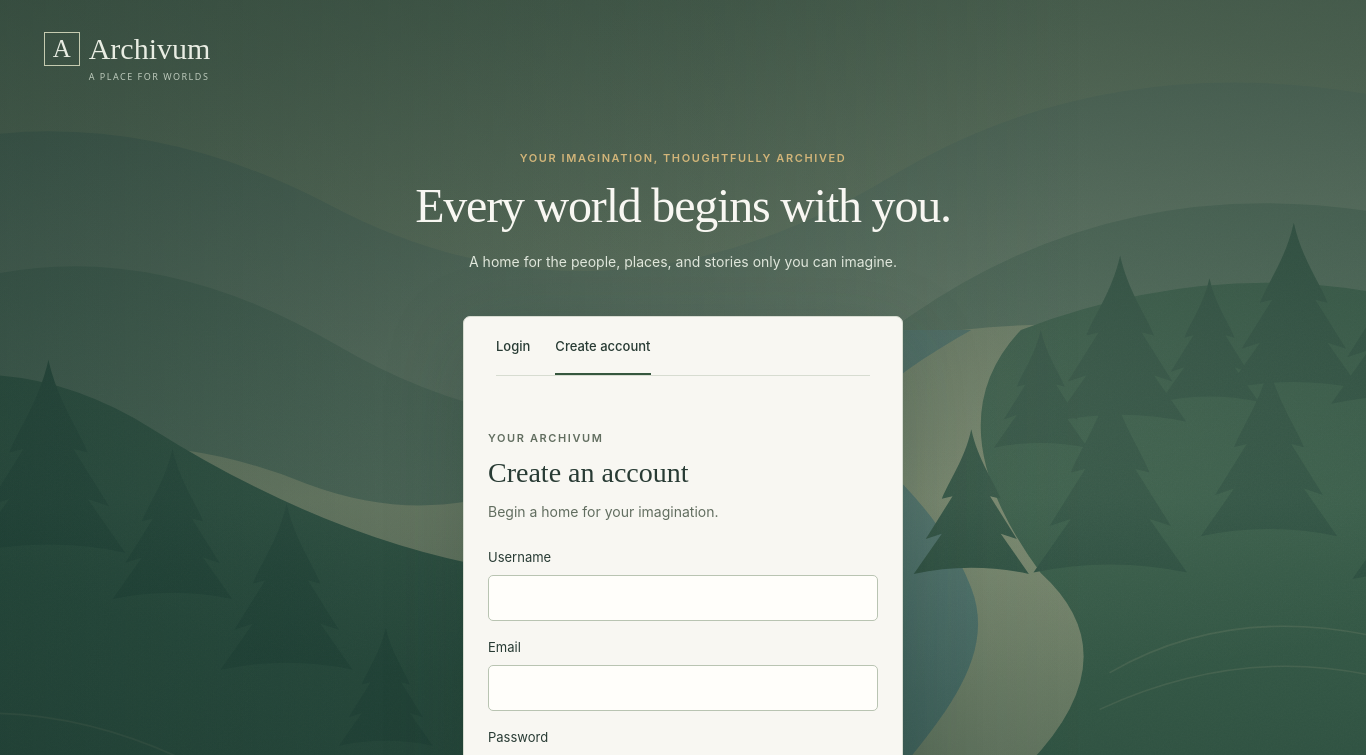
keeps a newly registered visitor in the shared guest flow until login
In the field named "userName": {"x": 683, "y": 598} [488,575,878,621], type "Archivist"
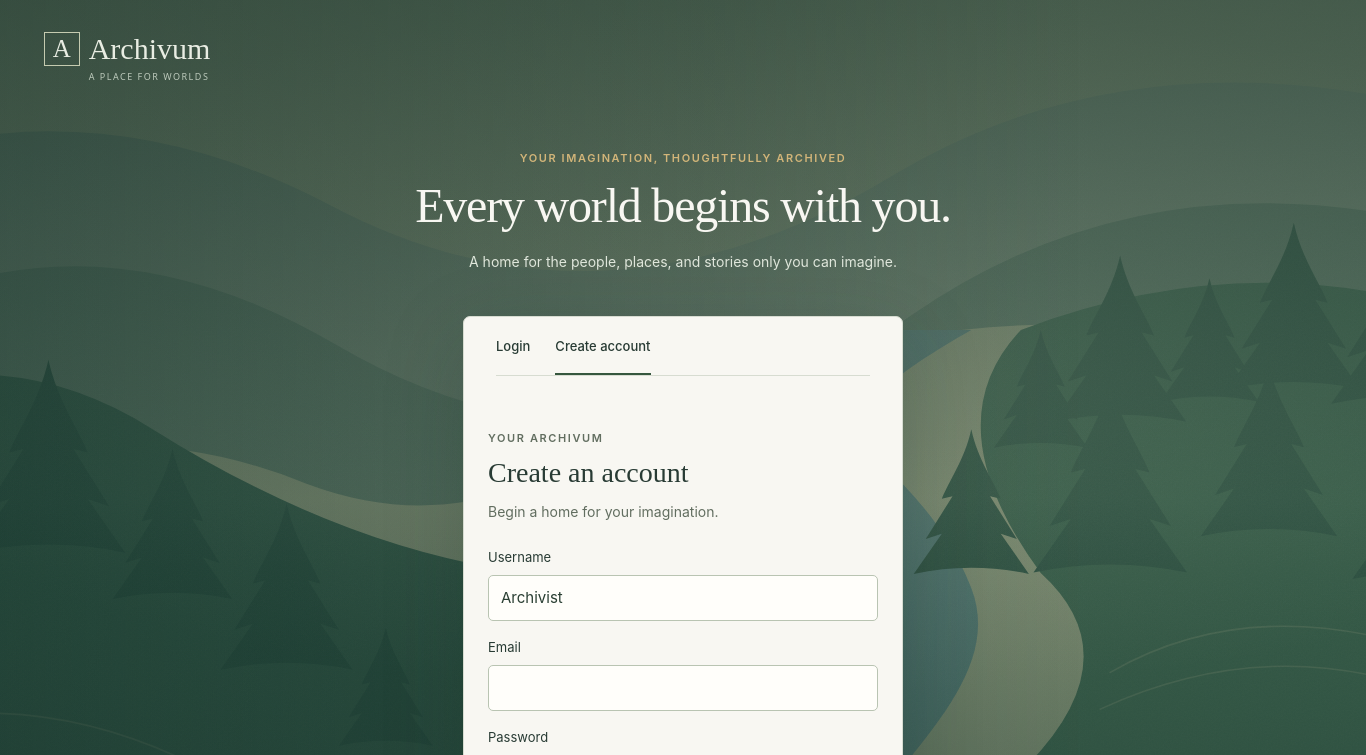
In the field named "email": {"x": 683, "y": 688} [488,665,878,711], type "a@example.com"
(page scrolled)
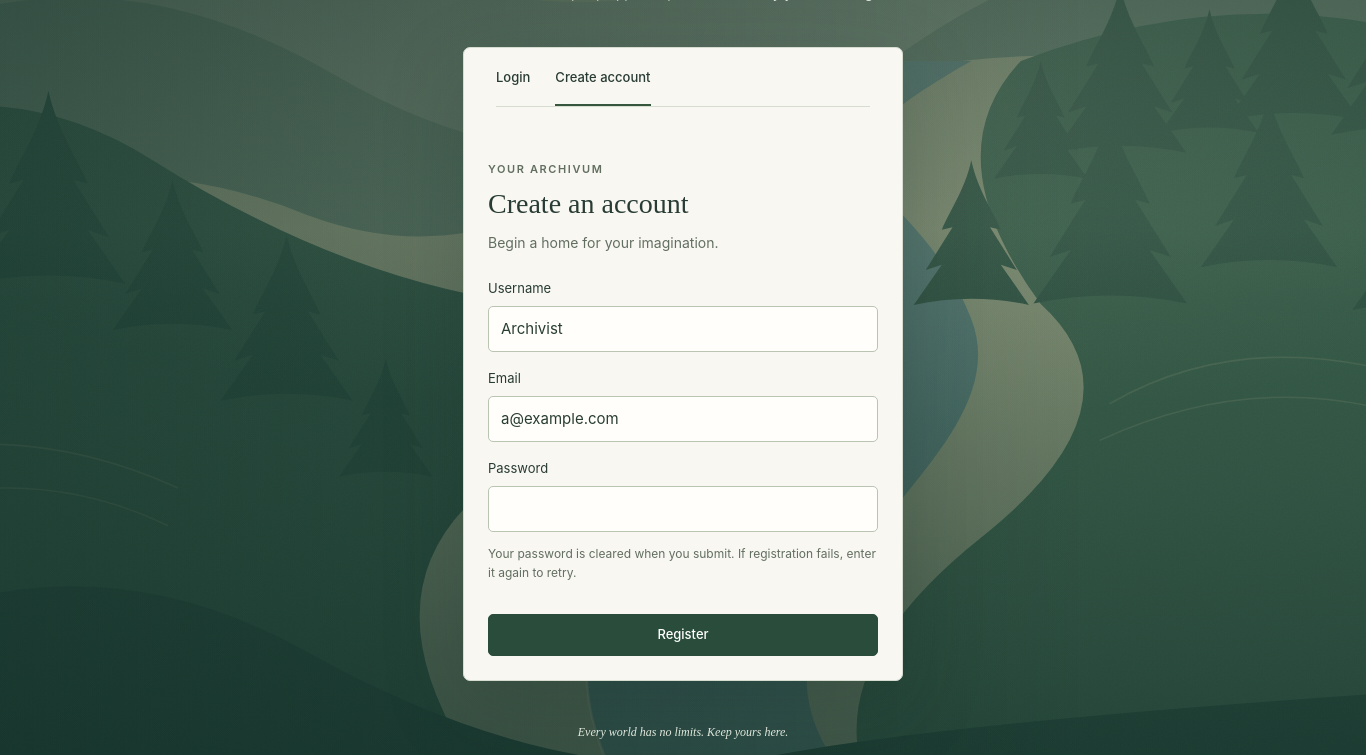
In the password field named "password": {"x": 683, "y": 509} [488,486,878,532], type "password"
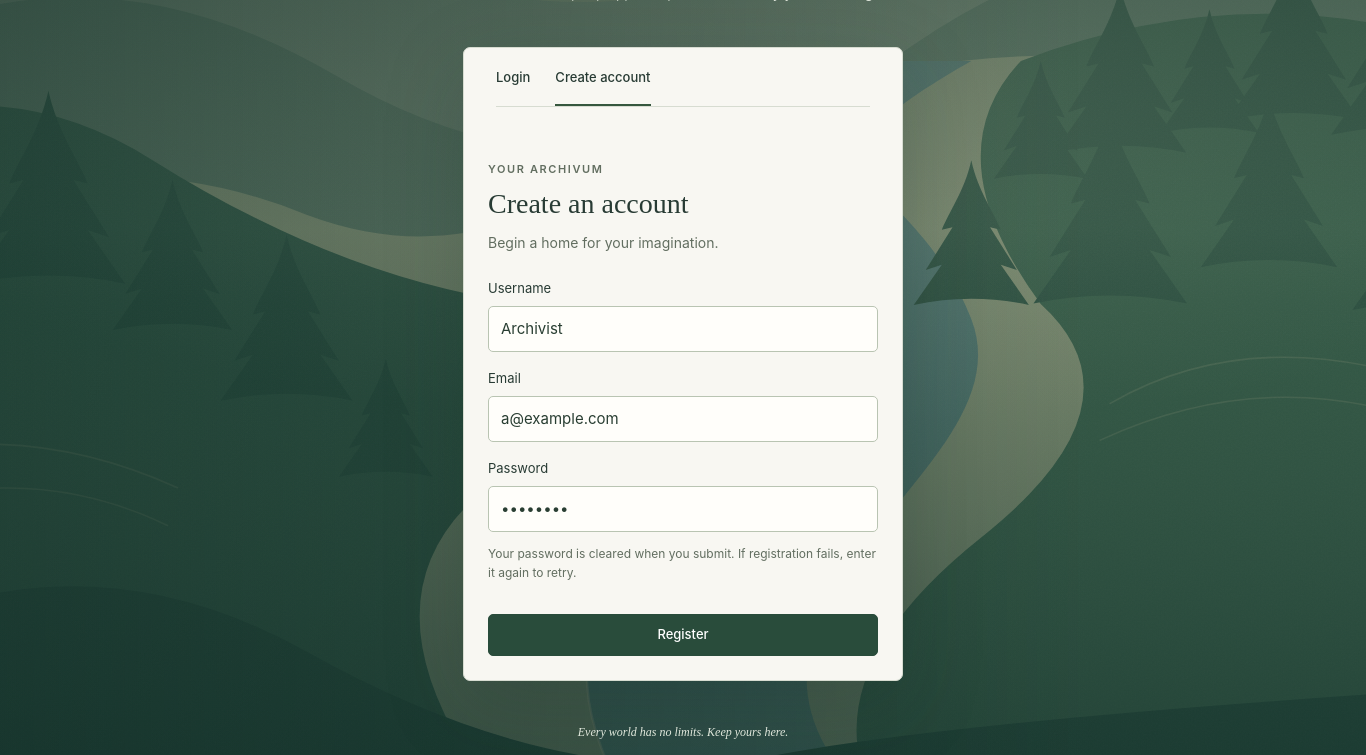
Submit the form, box [488,278,878,656]
(page scrolled)
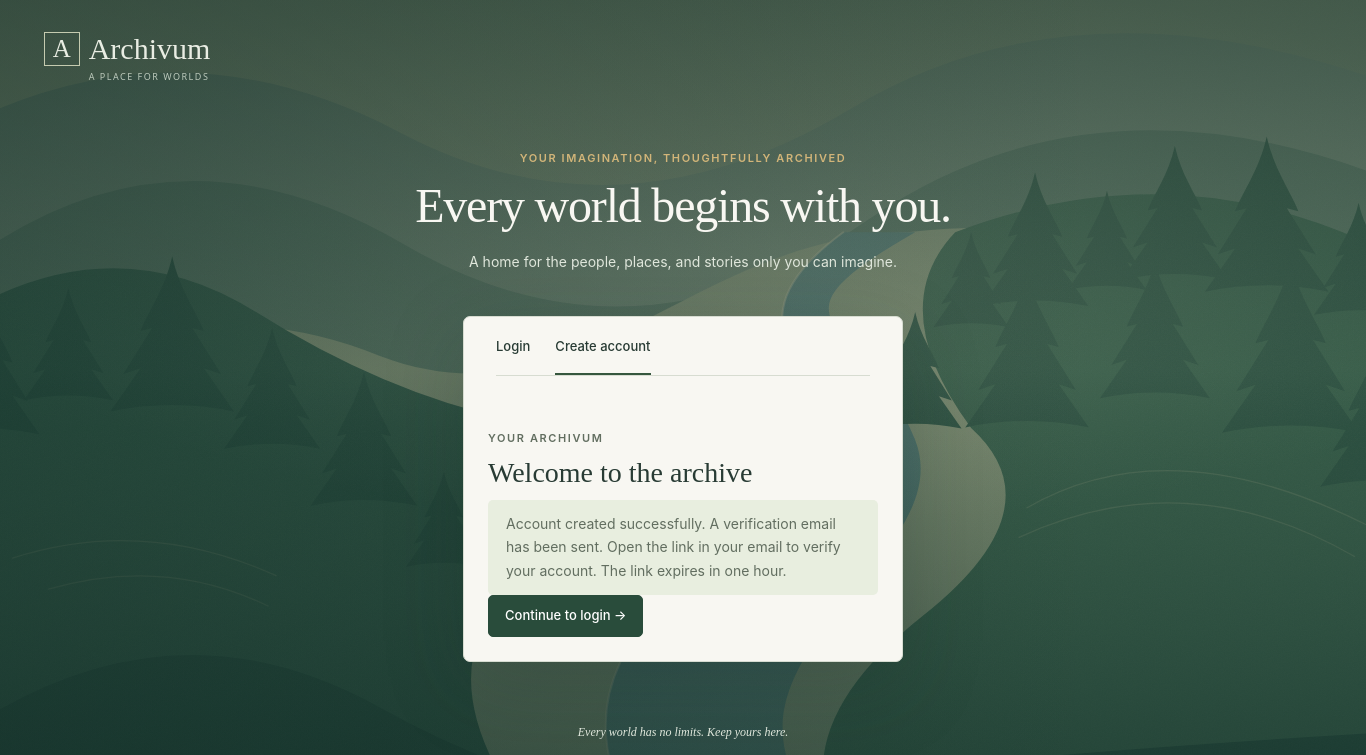
Now the element with class "auth-register-panel" shows "Account created successfully.", box [506,514,841,579]
Now the button "Continue to login →" is shown, box [488,595,643,637]
